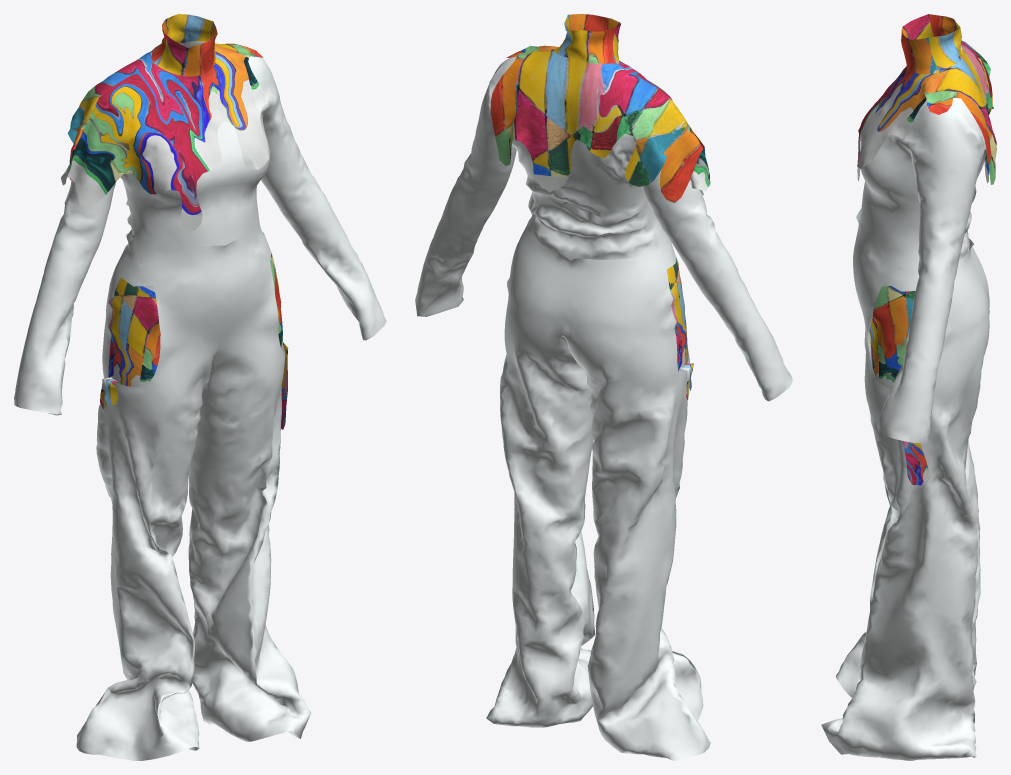
File: verarealin.obj
3 views of the same model, side by side, from view 1: azimuth 30°, elevation 25°; view 2: azimuth 150°, elevation 25°; view 3: azimuth 270°, elevation 25° (orthographic).
Size of the model in its own units: 866 by 1583 by 361.
4 materials, 4 textured.
